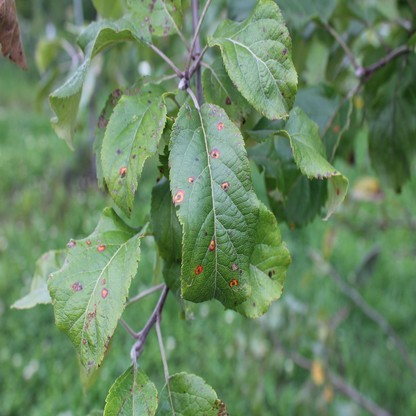rust: (85, 304, 98, 328), (111, 89, 122, 106), (174, 192, 185, 204), (98, 115, 108, 127), (72, 282, 83, 292), (209, 148, 219, 158), (195, 265, 204, 276), (119, 167, 127, 177), (289, 219, 295, 232), (229, 279, 238, 287), (188, 174, 194, 185), (101, 289, 108, 298), (333, 124, 339, 134), (210, 240, 215, 252), (217, 123, 225, 130), (222, 182, 229, 190), (98, 245, 105, 252), (68, 241, 76, 247), (86, 239, 90, 246), (101, 279, 105, 285), (83, 338, 85, 344)
